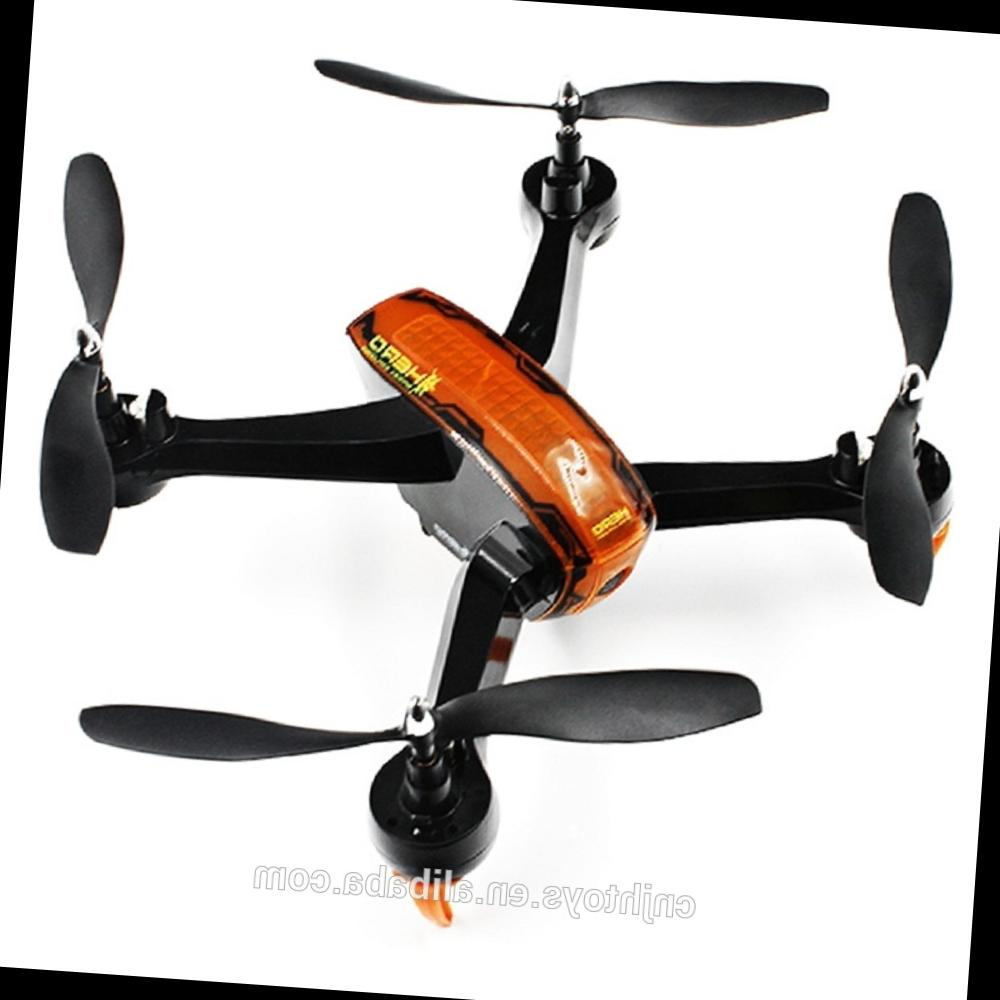drone: (0, 1, 1000, 927)
